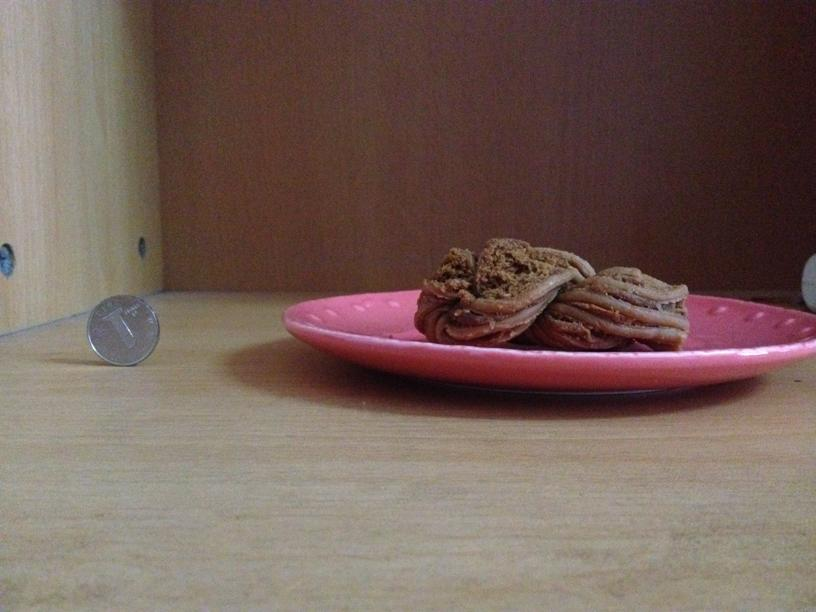coin: (88, 294, 158, 366)
fired_dough_twist: (418, 241, 691, 351)
